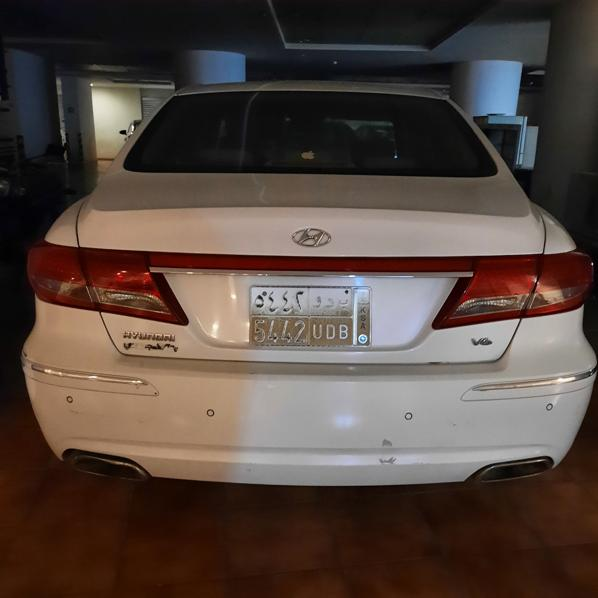numberplate: (249, 285, 373, 346)
